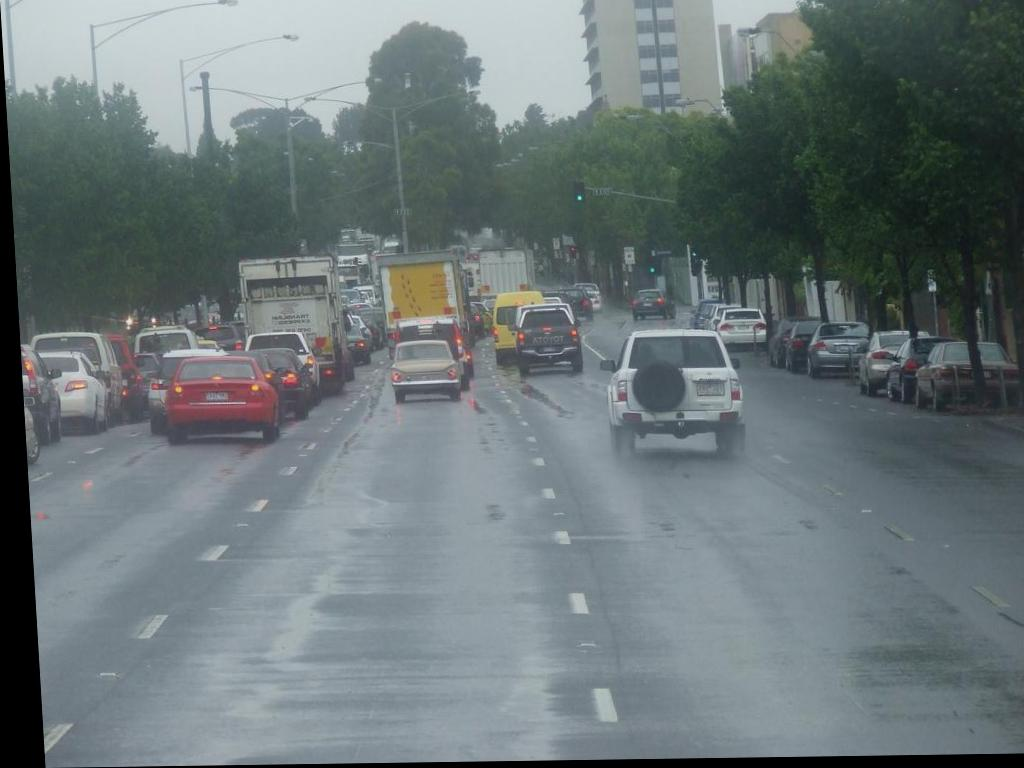License_Plate: (692, 380, 729, 396), (206, 391, 229, 403)
